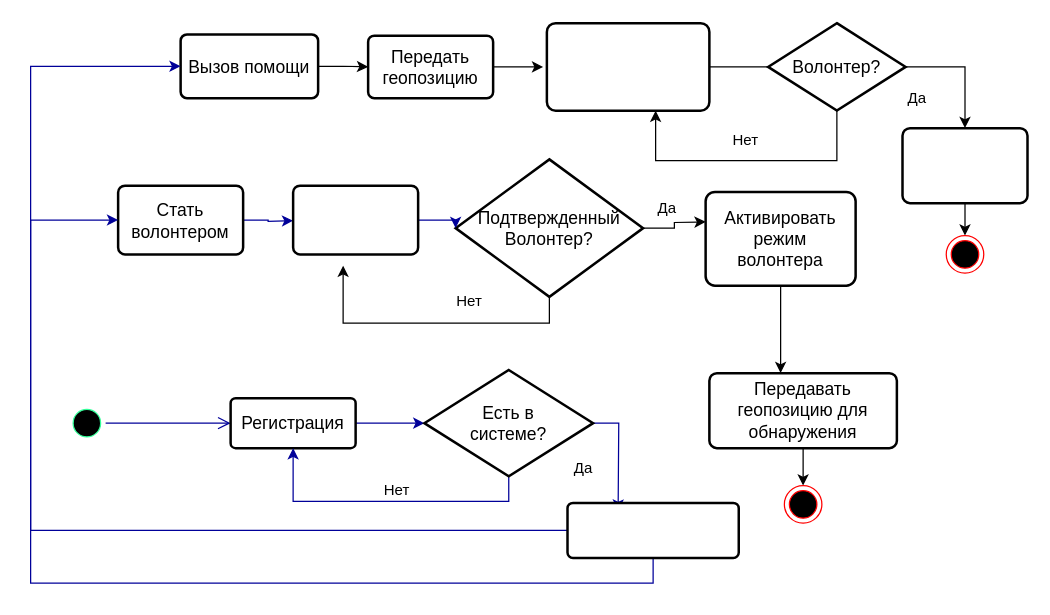
Image size: 1050x615. Some labels were removed from this diagram. Each missing label, with the centre of its shape:
"Авторизация" belongs at (652,529).
"Найти пользователя в радиусе 1 км" belongs at (627,66).
"Отправить пуши" belongs at (964,165).
"Подтвердить организацию" belongs at (355,219).
